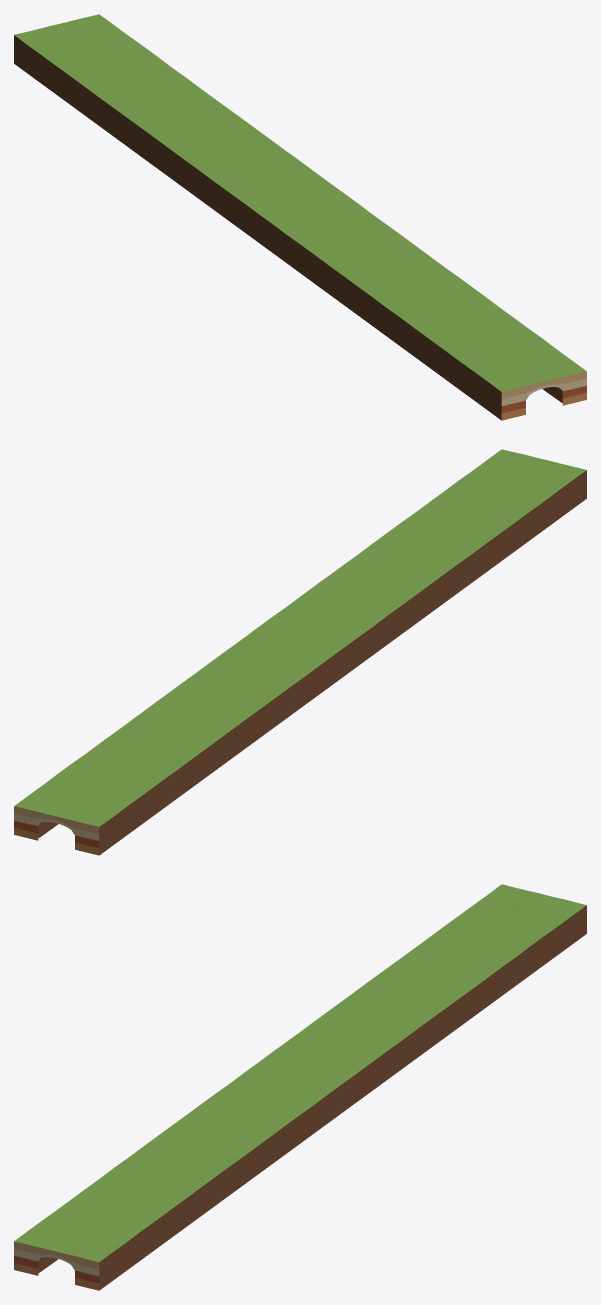
File: tunel_15f2.glb
3 renders of one model, top to bottom at view 1: azimuth 30°, elevation 25°; view 2: azimuth 150°, elevation 25°; view 3: azimuth 330°, elevation 25°, orthographic.
Parts seen in each view (by area): view 1: tunel_15f2; view 2: tunel_15f2; view 3: tunel_15f2.
Boxes of the visible parts, x1=… form: tunel_15f2: x1=14, y1=14, x2=586, y2=420; tunel_15f2: x1=14, y1=449, x2=586, y2=855; tunel_15f2: x1=14, y1=884, x2=586, y2=1290.
Bounding box in the file's own units: 84 × 27.27 × 833.
